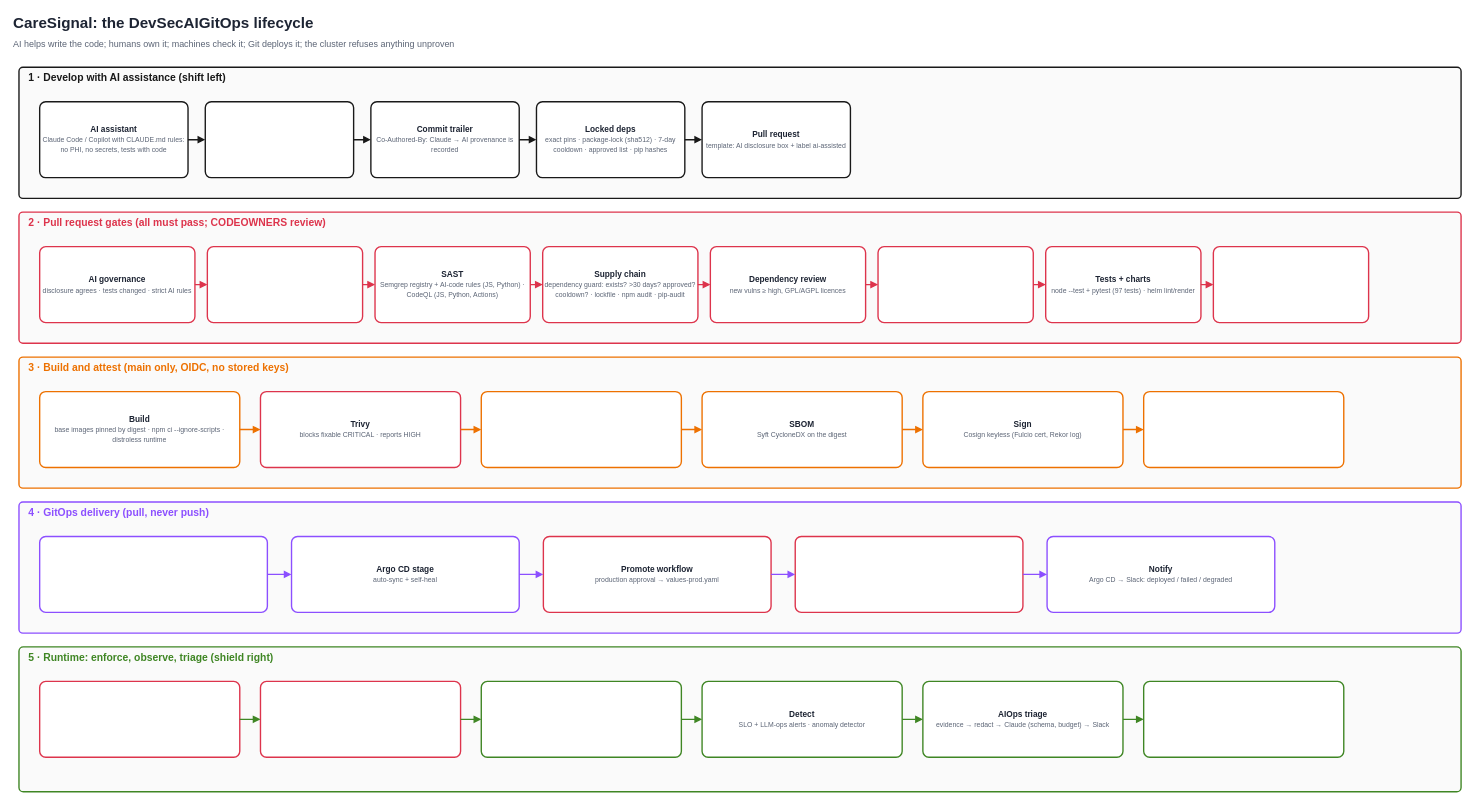
Image size: 1473x804. Some labels were removed from this diagram. The centre of each missing label's shape, as x and y in pixels:
"Argo CD prod OutOfSync → person reviews diff → Sync" belongs at point 908,574.
"Attest SBOM attestation + SLSA build provenance" belongs at point 1243,429.
"GitOps commit new tag into values-stage.yaml" belongs at point 153,574.
"Human acts runbook, rollback = git revert" belongs at point 1243,719.
"Human review CODEOWNERS approval" belongs at point 1290,284.
"IaC + policy Checkov · Kyverno CLI on rendered Pods" belongs at point 955,284.
"Kyverno verify signature + SBOM attestation · registries · hardening" belongs at point 139,719.
"OpenTelemetry traces · metrics · logs; GenAI spans metadata-only; PHI stripped" belongs at point 581,719.
"Pod security restricted labels · NetworkPolicies default-deny" belongs at point 360,719.
"Pre-commit gitleaks · Semgrep AI-code rules · detect-private-key · terraform fmt" belongs at point 279,139.
"Push ECR, immutable tag r<run>-<sha>" belongs at point 581,429.
"Secrets Gitleaks (full history)" belongs at point 284,284.
